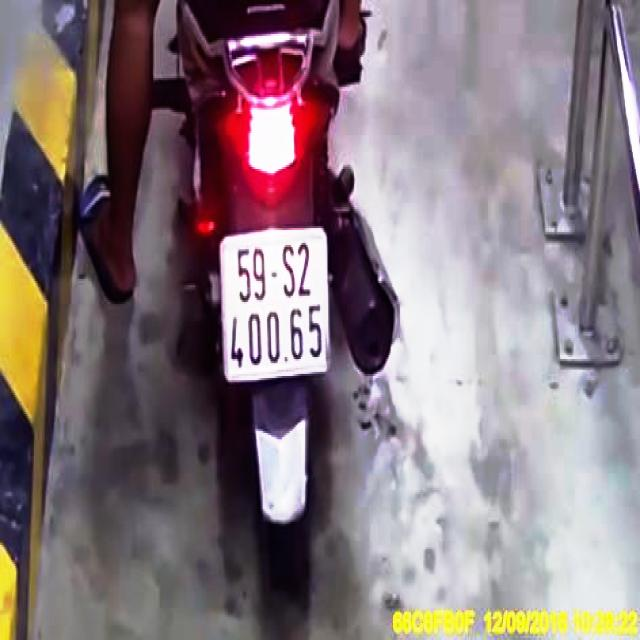license_plate: (219, 228, 331, 381)
